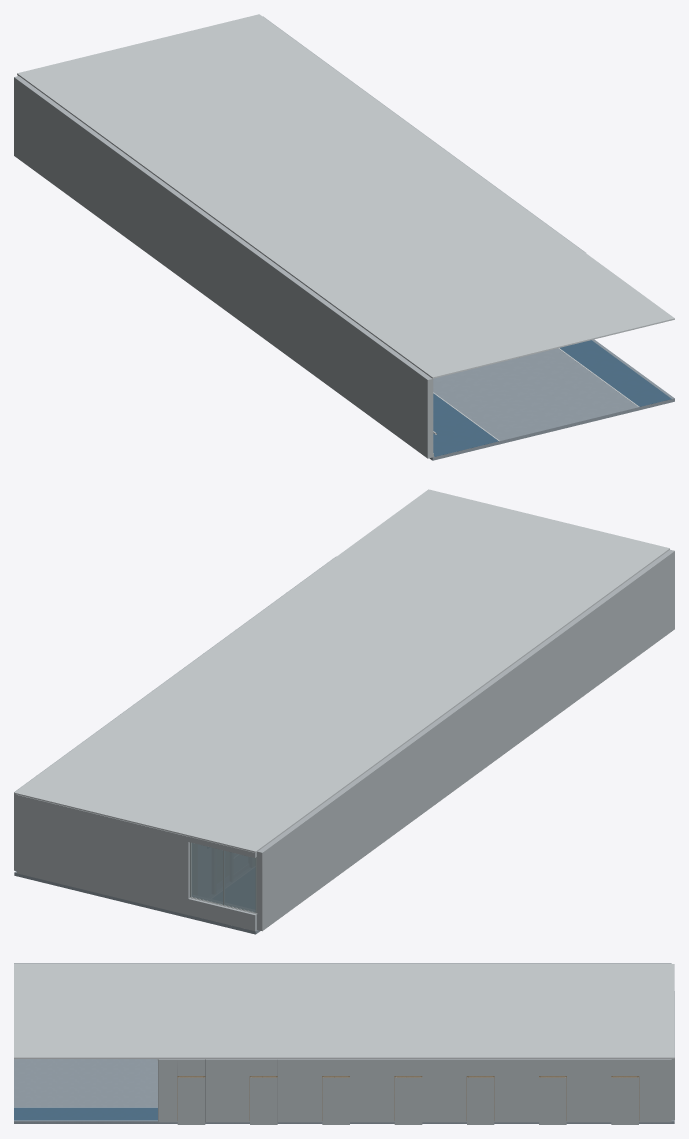
File: nurse-station-warm-v2.glb
3 views of the same model, one above another, from view 1: azimuth 30°, elevation 25°; view 2: azimuth 150°, elevation 25°; view 3: azimuth 270°, elevation 25° (orthographic). The views are drawn at different scales.
Parts seen in each view (by area): view 1: Architecture_Static; view 2: Architecture_Static; view 3: Architecture_Static.
Boxes of the visible parts, left/top/right/bottom form: Architecture_Static: left=14, top=14, right=674, bottom=460; Architecture_Static: left=14, top=489, right=674, bottom=934; Architecture_Static: left=14, top=963, right=674, bottom=1124.
Bounding box in the file's own units: 10.74 × 3.33 × 30.17.
31 materials, 17 textured.
